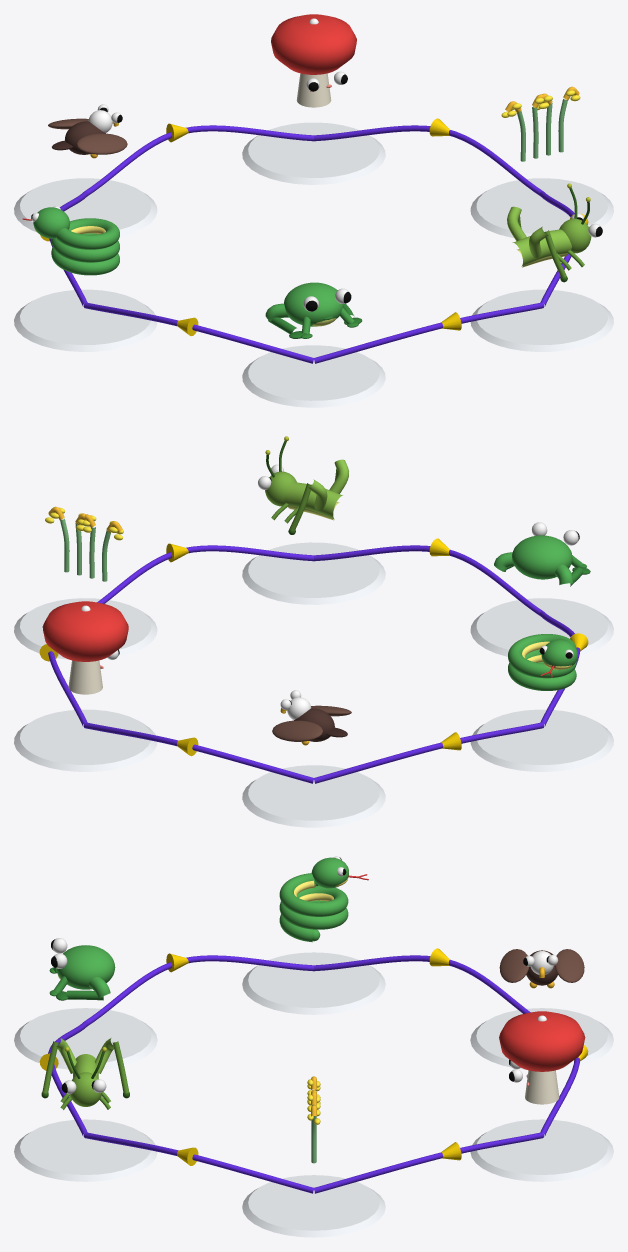
File: eco_sawah_baked.glb
3 renders of one model, top to bottom at view 1: azimuth 30°, elevation 25°; view 2: azimuth 150°, elevation 25°; view 3: azimuth 270°, elevation 25°, orthographic.
Parts seen in each view (by area): view 1: ecosystem_preset_group, object 14; view 2: ecosystem_preset_group, object 14; view 3: ecosystem_preset_group, object 14.
Boxes of the visible parts, <box> form: ecosystem_preset_group: <box>14,14,613,407</box>; object 14: <box>33,207,70,238</box>; ecosystem_preset_group: <box>14,436,613,827</box>; object 14: <box>541,639,577,670</box>; ecosystem_preset_group: <box>14,873,613,1237</box>; object 14: <box>311,857,348,888</box>.
Size of the model in its own units: 5.6 by 1.25 by 5.01.
